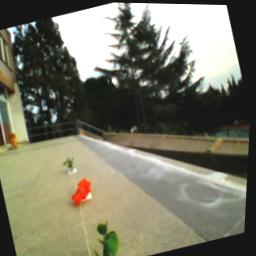herb: (90, 218, 128, 256), (65, 156, 79, 172)
wild: (70, 176, 99, 209)
